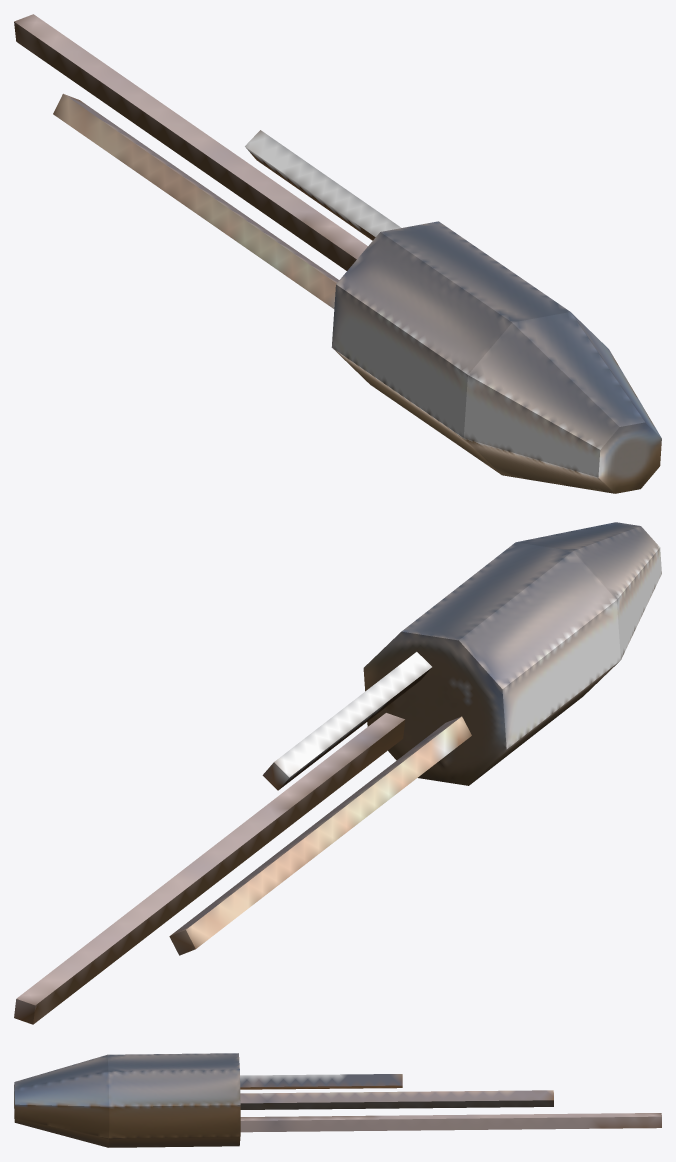
The picture shows the model from 3 angles, top to bottom: view 1: azimuth 30°, elevation 25°; view 2: azimuth 150°, elevation 25°; view 3: azimuth 270°, elevation 25°; orthographic projection. The views are drawn at different scales.
Visible parts, largest first — view 1: Bala_Cylinder.003, Estela_1_Cube.006, Estela_3_Cube.008, Estela_2_Cube.007; view 2: Bala_Cylinder.003, Estela_1_Cube.006, Estela_3_Cube.008, Estela_2_Cube.007; view 3: Bala_Cylinder.003, Estela_1_Cube.006, Estela_3_Cube.008, Estela_2_Cube.007.
Part boxes in pixels (bbox=[...]): Bala_Cylinder.003: bbox=[331, 221, 661, 493]; Estela_1_Cube.006: bbox=[14, 14, 367, 270]; Estela_3_Cube.008: bbox=[53, 93, 339, 308]; Estela_2_Cube.007: bbox=[245, 130, 401, 240]; Bala_Cylinder.003: bbox=[363, 522, 661, 785]; Estela_1_Cube.006: bbox=[14, 713, 405, 1024]; Estela_3_Cube.008: bbox=[169, 716, 471, 955]; Estela_2_Cube.007: bbox=[262, 652, 431, 790]; Bala_Cylinder.003: bbox=[14, 1053, 240, 1147]; Estela_1_Cube.006: bbox=[240, 1113, 661, 1132]; Estela_3_Cube.008: bbox=[240, 1090, 553, 1109]; Estela_2_Cube.007: bbox=[240, 1074, 402, 1089].
Size of what is drawn, in the model's own units: 0.2771 by 0.2662 by 1.94.
